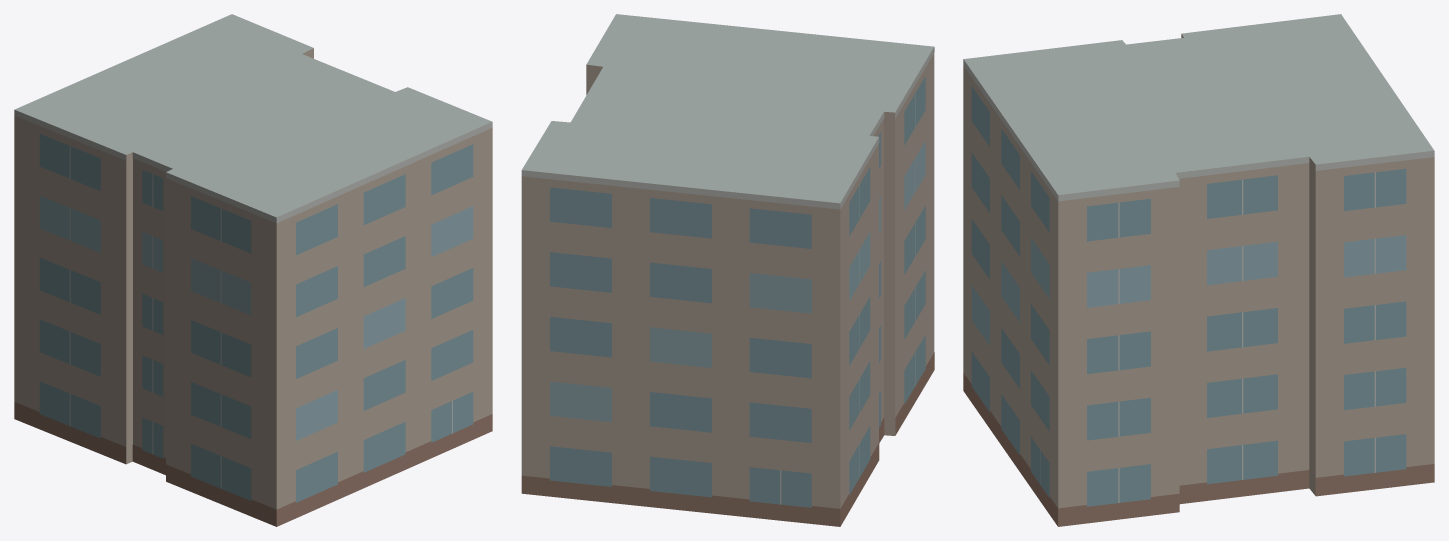
File: survey-upis-32717005.glb
The picture shows the model from 3 angles, left to right: view 1: azimuth 30°, elevation 25°; view 2: azimuth 150°, elevation 25°; view 3: azimuth 270°, elevation 25°; orthographic projection. The views are drawn at different scales.
Visible parts, largest first — view 1: survey-upis-32717005.tmp; view 2: survey-upis-32717005.tmp; view 3: survey-upis-32717005.tmp.
Part boxes in pixels (bbox=[...]): survey-upis-32717005.tmp: bbox=[14, 14, 492, 526]; survey-upis-32717005.tmp: bbox=[521, 14, 934, 526]; survey-upis-32717005.tmp: bbox=[963, 14, 1434, 526].
Size of the model in its own units: 15 by 12.8 by 16.49.
